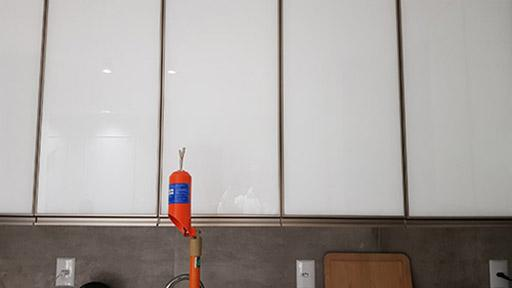Detector_Tensao_Contato: (167, 146, 196, 240)
